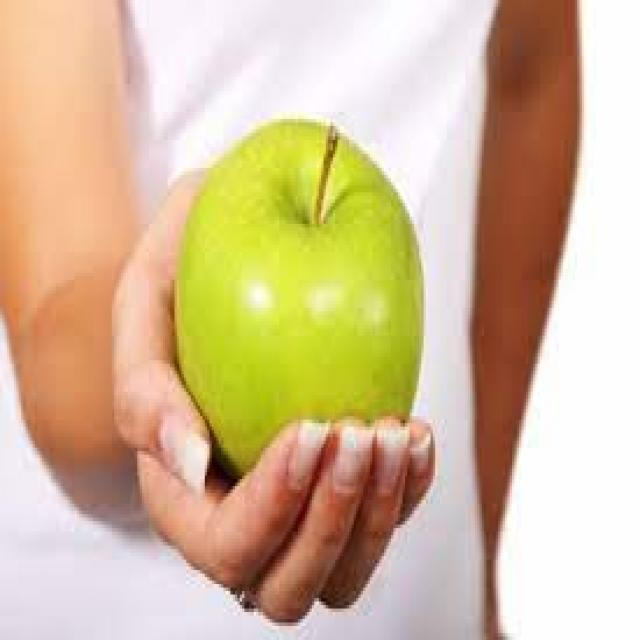Fresh Apple: (172, 123, 413, 467)
